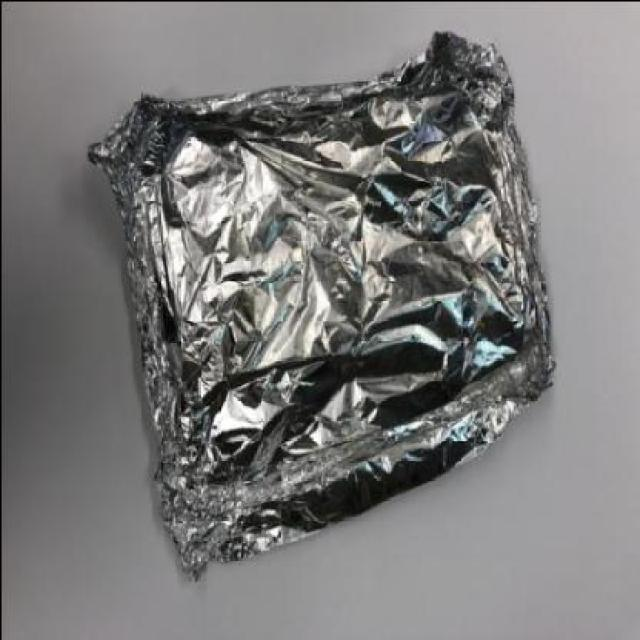METAL: (87, 24, 558, 578)
